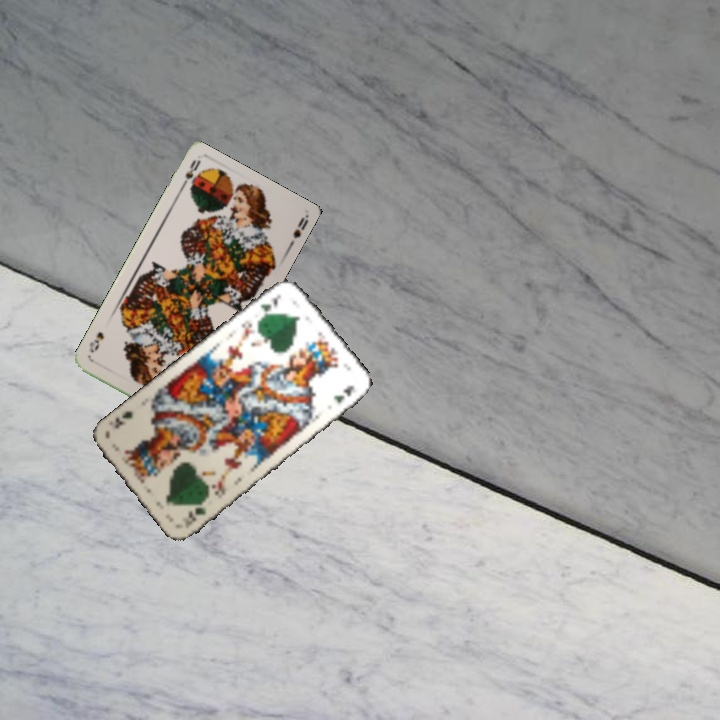GK: (180, 496, 209, 531), (255, 291, 284, 322)
SO: (175, 156, 203, 193)
